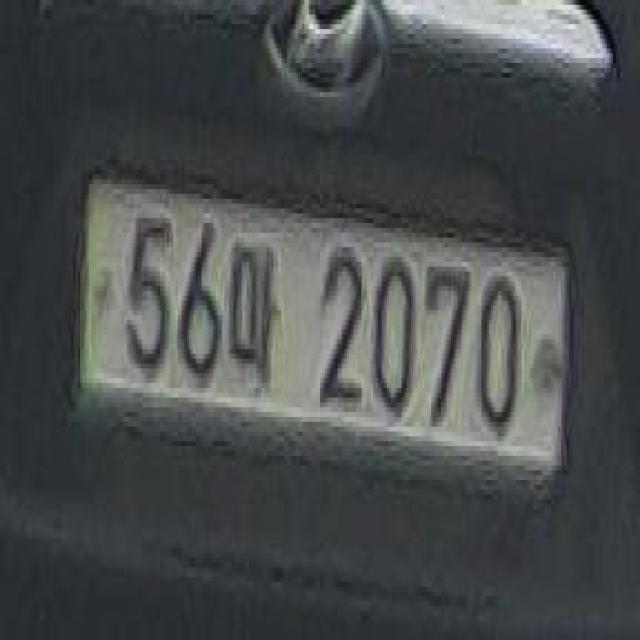illegal_plate: (81, 165, 568, 512)
